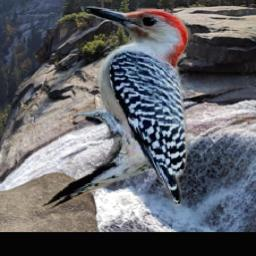Woodpecker: (32, 0, 204, 224)
